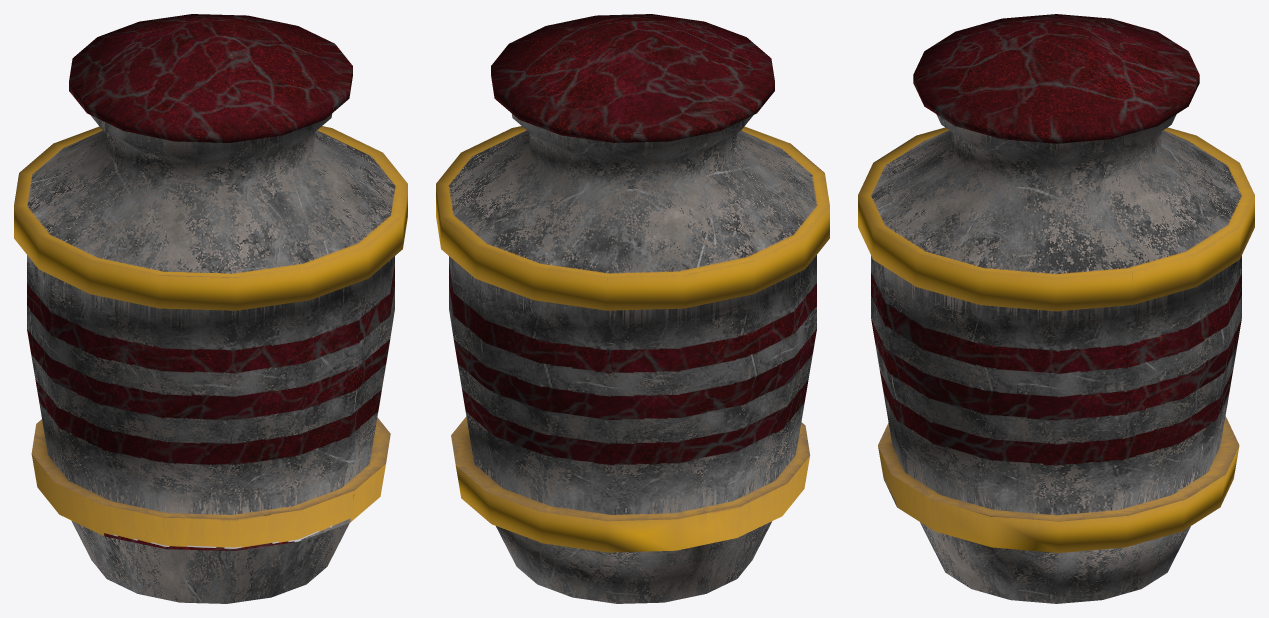
The model's file is urn.fbx.
3 renders of one model, left to right at view 1: azimuth 30°, elevation 25°; view 2: azimuth 150°, elevation 25°; view 3: azimuth 270°, elevation 25°, orthographic.
Parts seen in each view (by area): view 1: Cylinder; view 2: Cylinder; view 3: Cylinder.
Boxes of the visible parts, <box> form: Cylinder: <box>14,14,407,603</box>; Cylinder: <box>436,14,829,603</box>; Cylinder: <box>858,14,1254,603</box>.
Size of the model in its own units: 188 by 272 by 188.
Materials: 1 (1 with a texture image).
